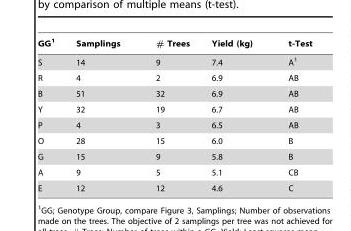table: (36, 37, 311, 192)
table column: (64, 37, 137, 192), (199, 37, 269, 192), (137, 37, 199, 192), (269, 37, 311, 192), (36, 37, 64, 192)
table column header: (36, 37, 311, 51)
table row: (36, 51, 311, 69), (36, 69, 311, 85), (36, 85, 311, 101), (36, 101, 311, 117), (36, 132, 311, 148), (36, 148, 311, 164), (36, 164, 311, 180), (36, 117, 311, 132), (36, 37, 311, 51), (36, 180, 311, 192)
